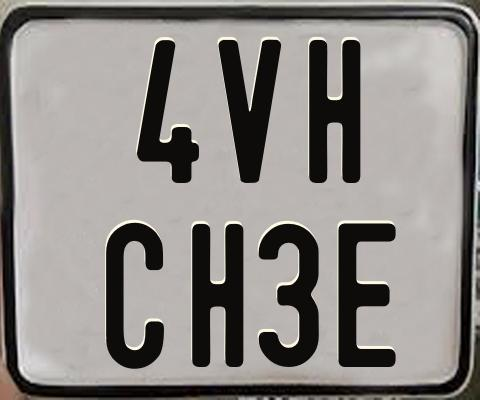3: (256, 222, 321, 370)
4: (136, 40, 198, 185)
C: (104, 222, 163, 370)
E: (338, 223, 397, 369)
H: (306, 38, 361, 187), (191, 221, 245, 364)
V: (219, 40, 282, 187)
